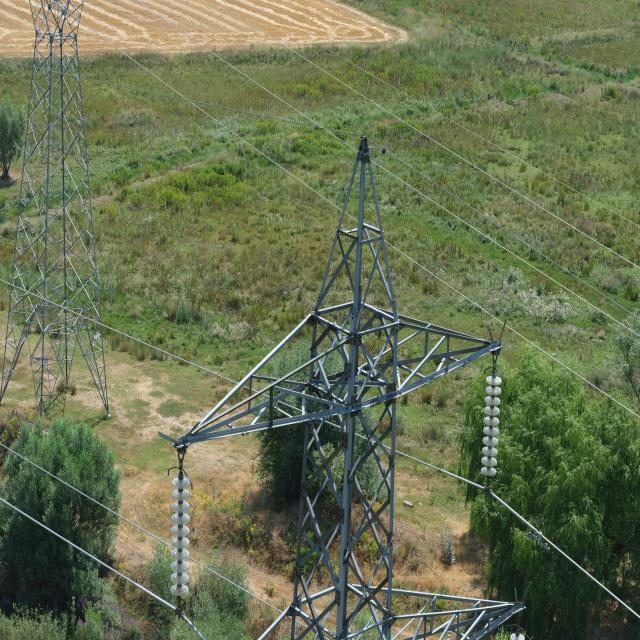voltage_line: (181, 153, 518, 640), (3, 0, 108, 417)
